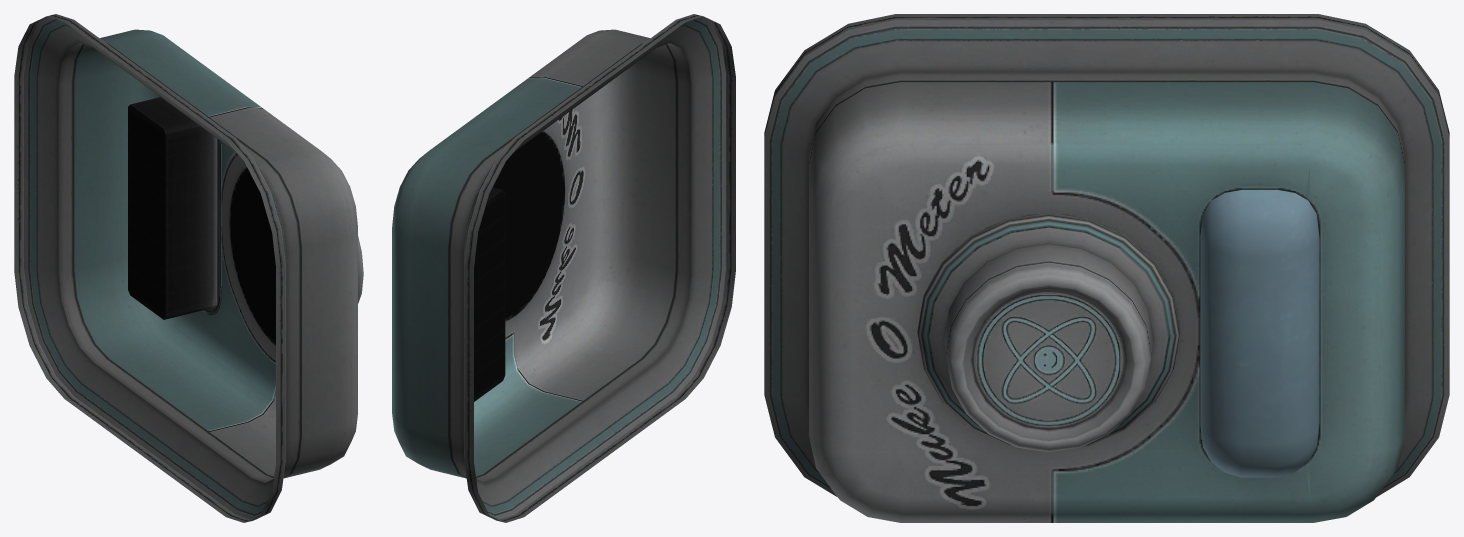
Rendered from nt_2020_wall_meter_01_LOD0.obj.
3 views of the same model, side by side, from view 1: azimuth 30°, elevation 25°; view 2: azimuth 150°, elevation 25°; view 3: azimuth 270°, elevation 25° (orthographic). The views are drawn at different scales.
Visible parts, largest first — view 1: mtl_nt_2020_wall_meter_01; view 2: mtl_nt_2020_wall_meter_01; view 3: mtl_nt_2020_wall_meter_01, glass_clear_model.
Boxes of the visible parts, <box> form: mtl_nt_2020_wall_meter_01: <box>14,14,363,522</box>; mtl_nt_2020_wall_meter_01: <box>392,14,735,522</box>; mtl_nt_2020_wall_meter_01: <box>764,14,1449,522</box>; glass_clear_model: <box>1200,190,1319,477</box>.
Bounding box in the file's own units: 15.96 × 35.66 × 44.91.
